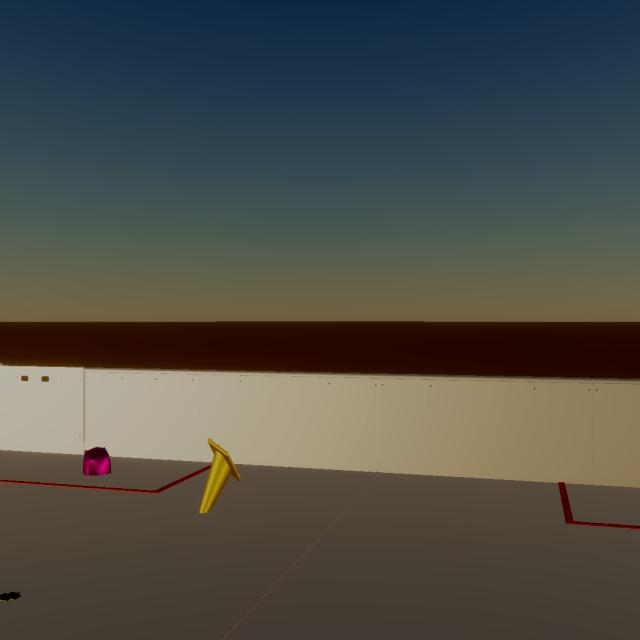frc_cone: (199, 439, 241, 513)
frc_cube: (83, 447, 111, 475)
